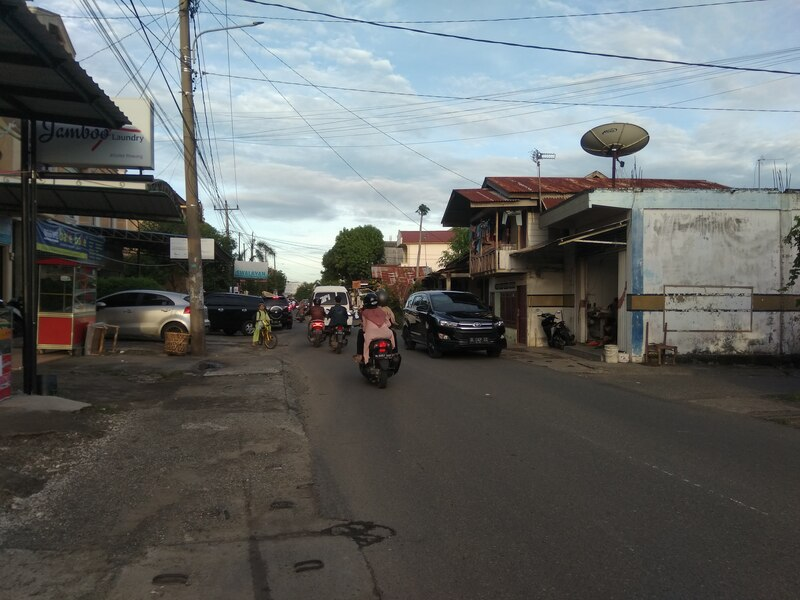bike: (254, 315, 283, 352)
car: (399, 287, 511, 364), (99, 285, 212, 350), (204, 288, 266, 341), (261, 291, 294, 330)
motorcycle: (352, 311, 403, 393), (327, 317, 350, 357), (305, 315, 330, 347)
